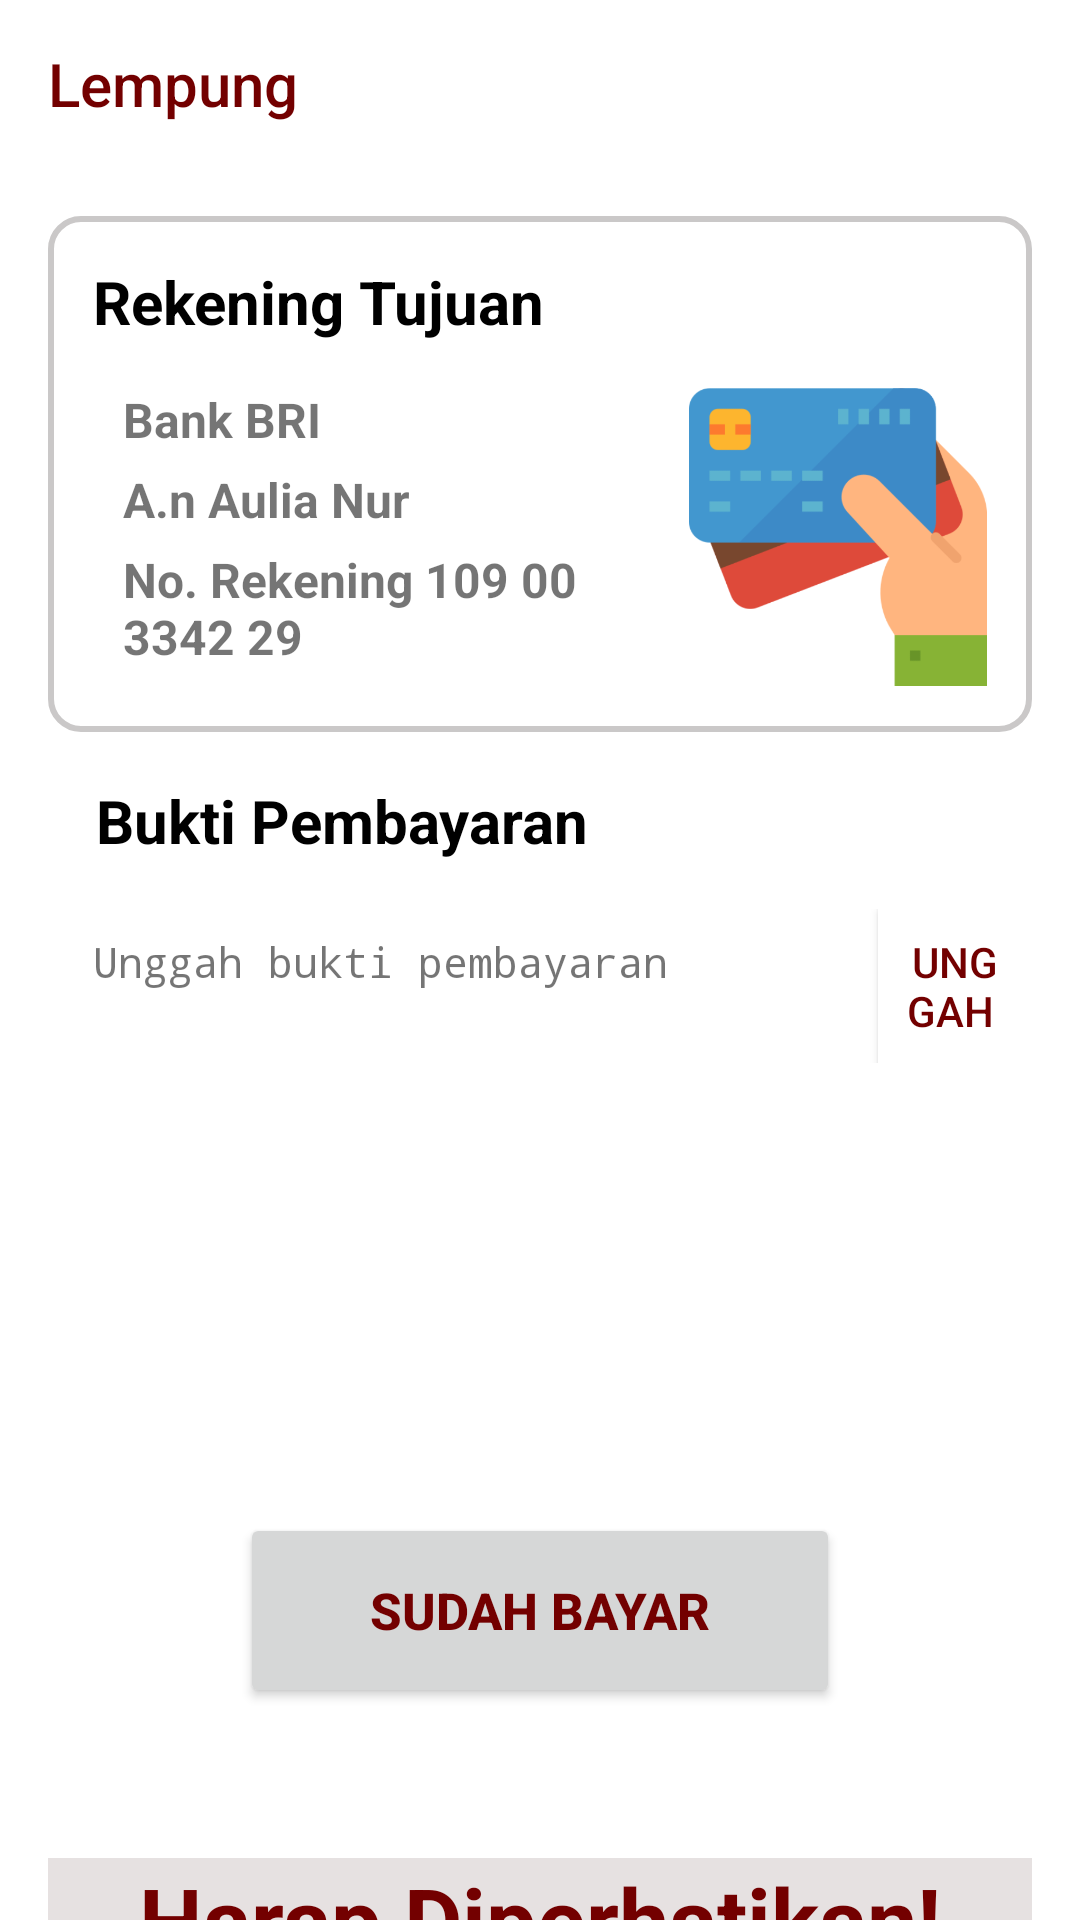

Where icons sit on this 1080*1920 app screen, as (x1,y1,x2,y2):
debitcard: (689,388,987,686)
